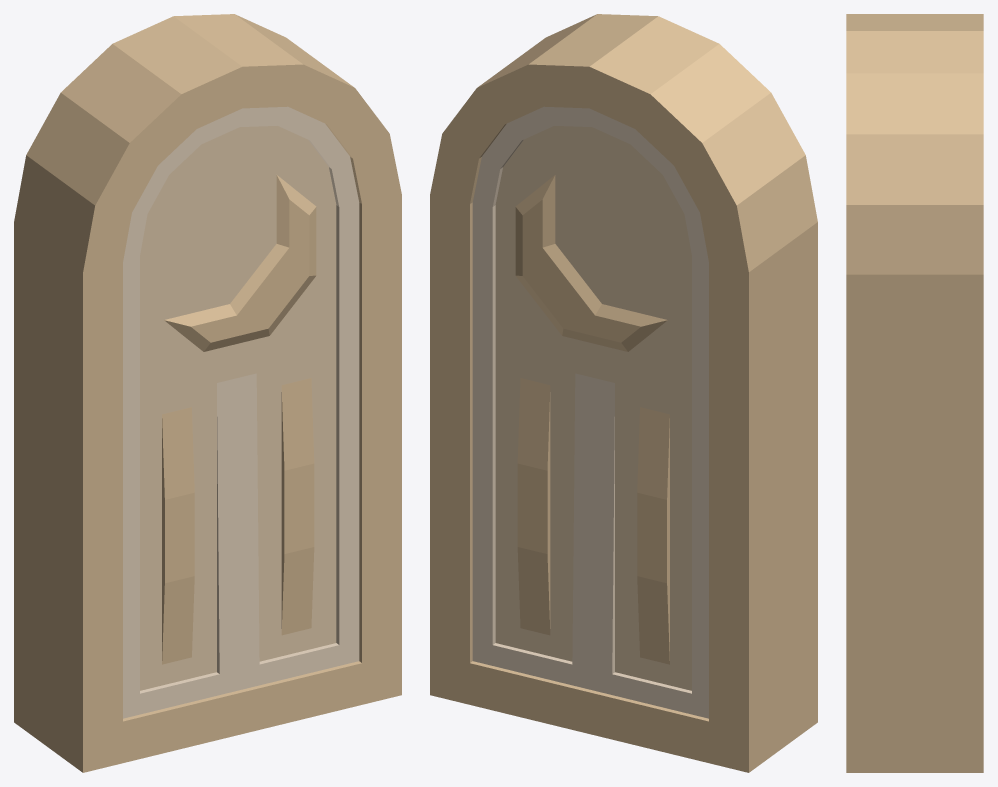
The model's file is Wall_Straight_Door_Moon.glb.
3 views of the same model, side by side, from view 1: azimuth 30°, elevation 25°; view 2: azimuth 150°, elevation 25°; view 3: azimuth 270°, elevation 25° (orthographic).
Parts seen in each view (by area): view 1: Wall_Straight_Door_Moon; view 2: Wall_Straight_Door_Moon; view 3: Wall_Straight_Door_Moon.
Part boxes in pixels (box(x1,y1,x2,y2)): Wall_Straight_Door_Moon: box(14, 14, 401, 772); Wall_Straight_Door_Moon: box(430, 14, 817, 772); Wall_Straight_Door_Moon: box(846, 14, 983, 772).
Bounding box in the file's own units: 0.8 × 1.6 × 0.3.
